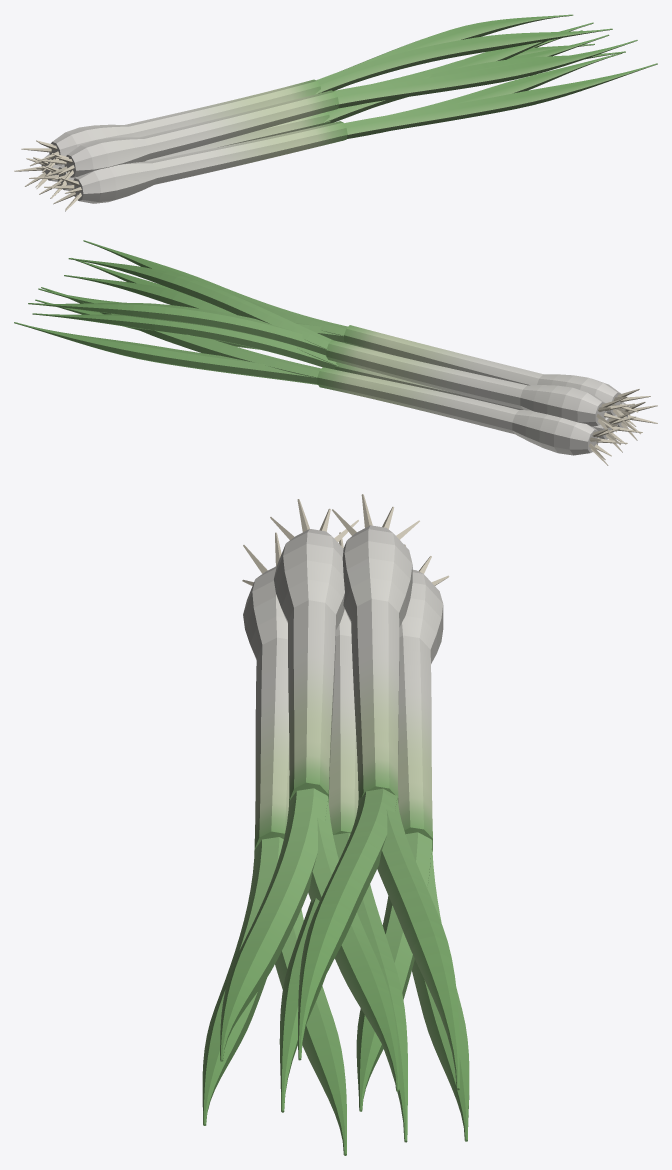
Rendered from leek.glb.
3 renders of one model, top to bottom at view 1: azimuth 30°, elevation 25°; view 2: azimuth 150°, elevation 25°; view 3: azimuth 270°, elevation 25°, orthographic. The views are drawn at different scales.
Visible parts, largest first — view 1: scallion; view 2: scallion; view 3: scallion.
Boxes of the visible parts, x1,y1,x2,y2 form: scallion: (14,14,657,211); scallion: (14,240,657,465); scallion: (202,494,469,1155).
Size of the model in its own units: 2.45 by 0.2511 by 0.4855.
